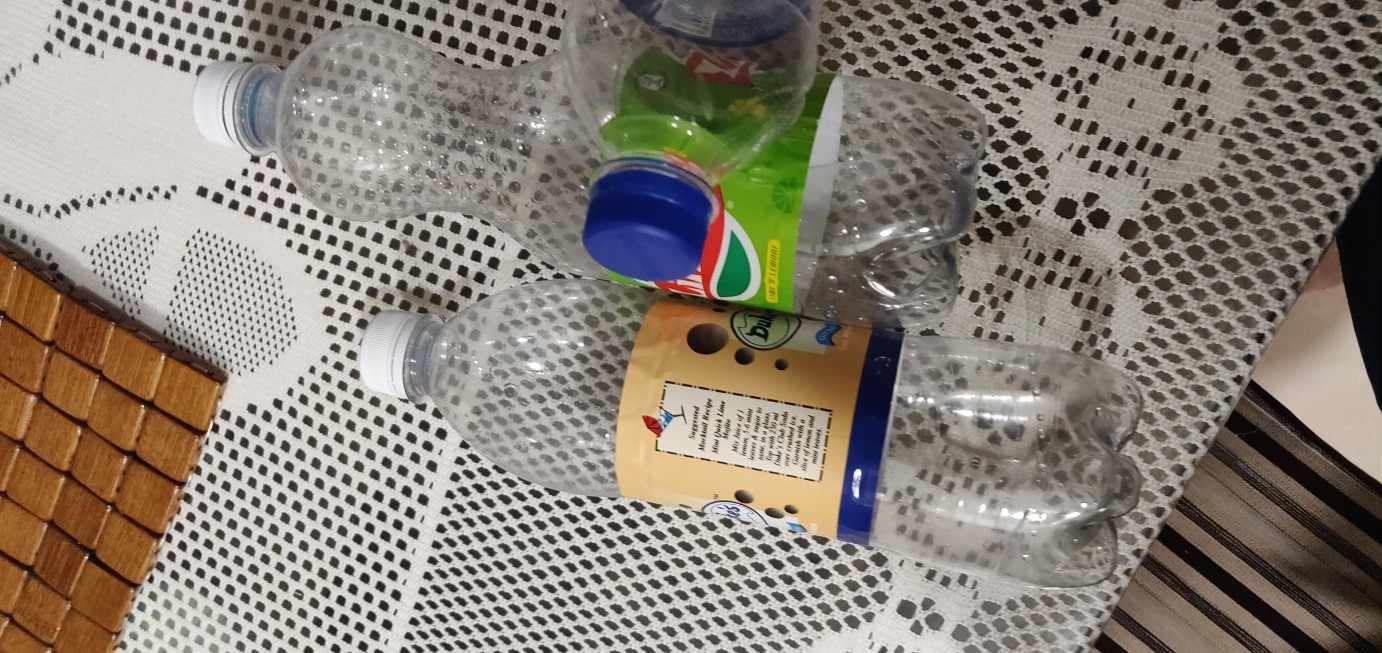Electronics: (297, 258, 1198, 626), (174, 13, 1029, 358)
